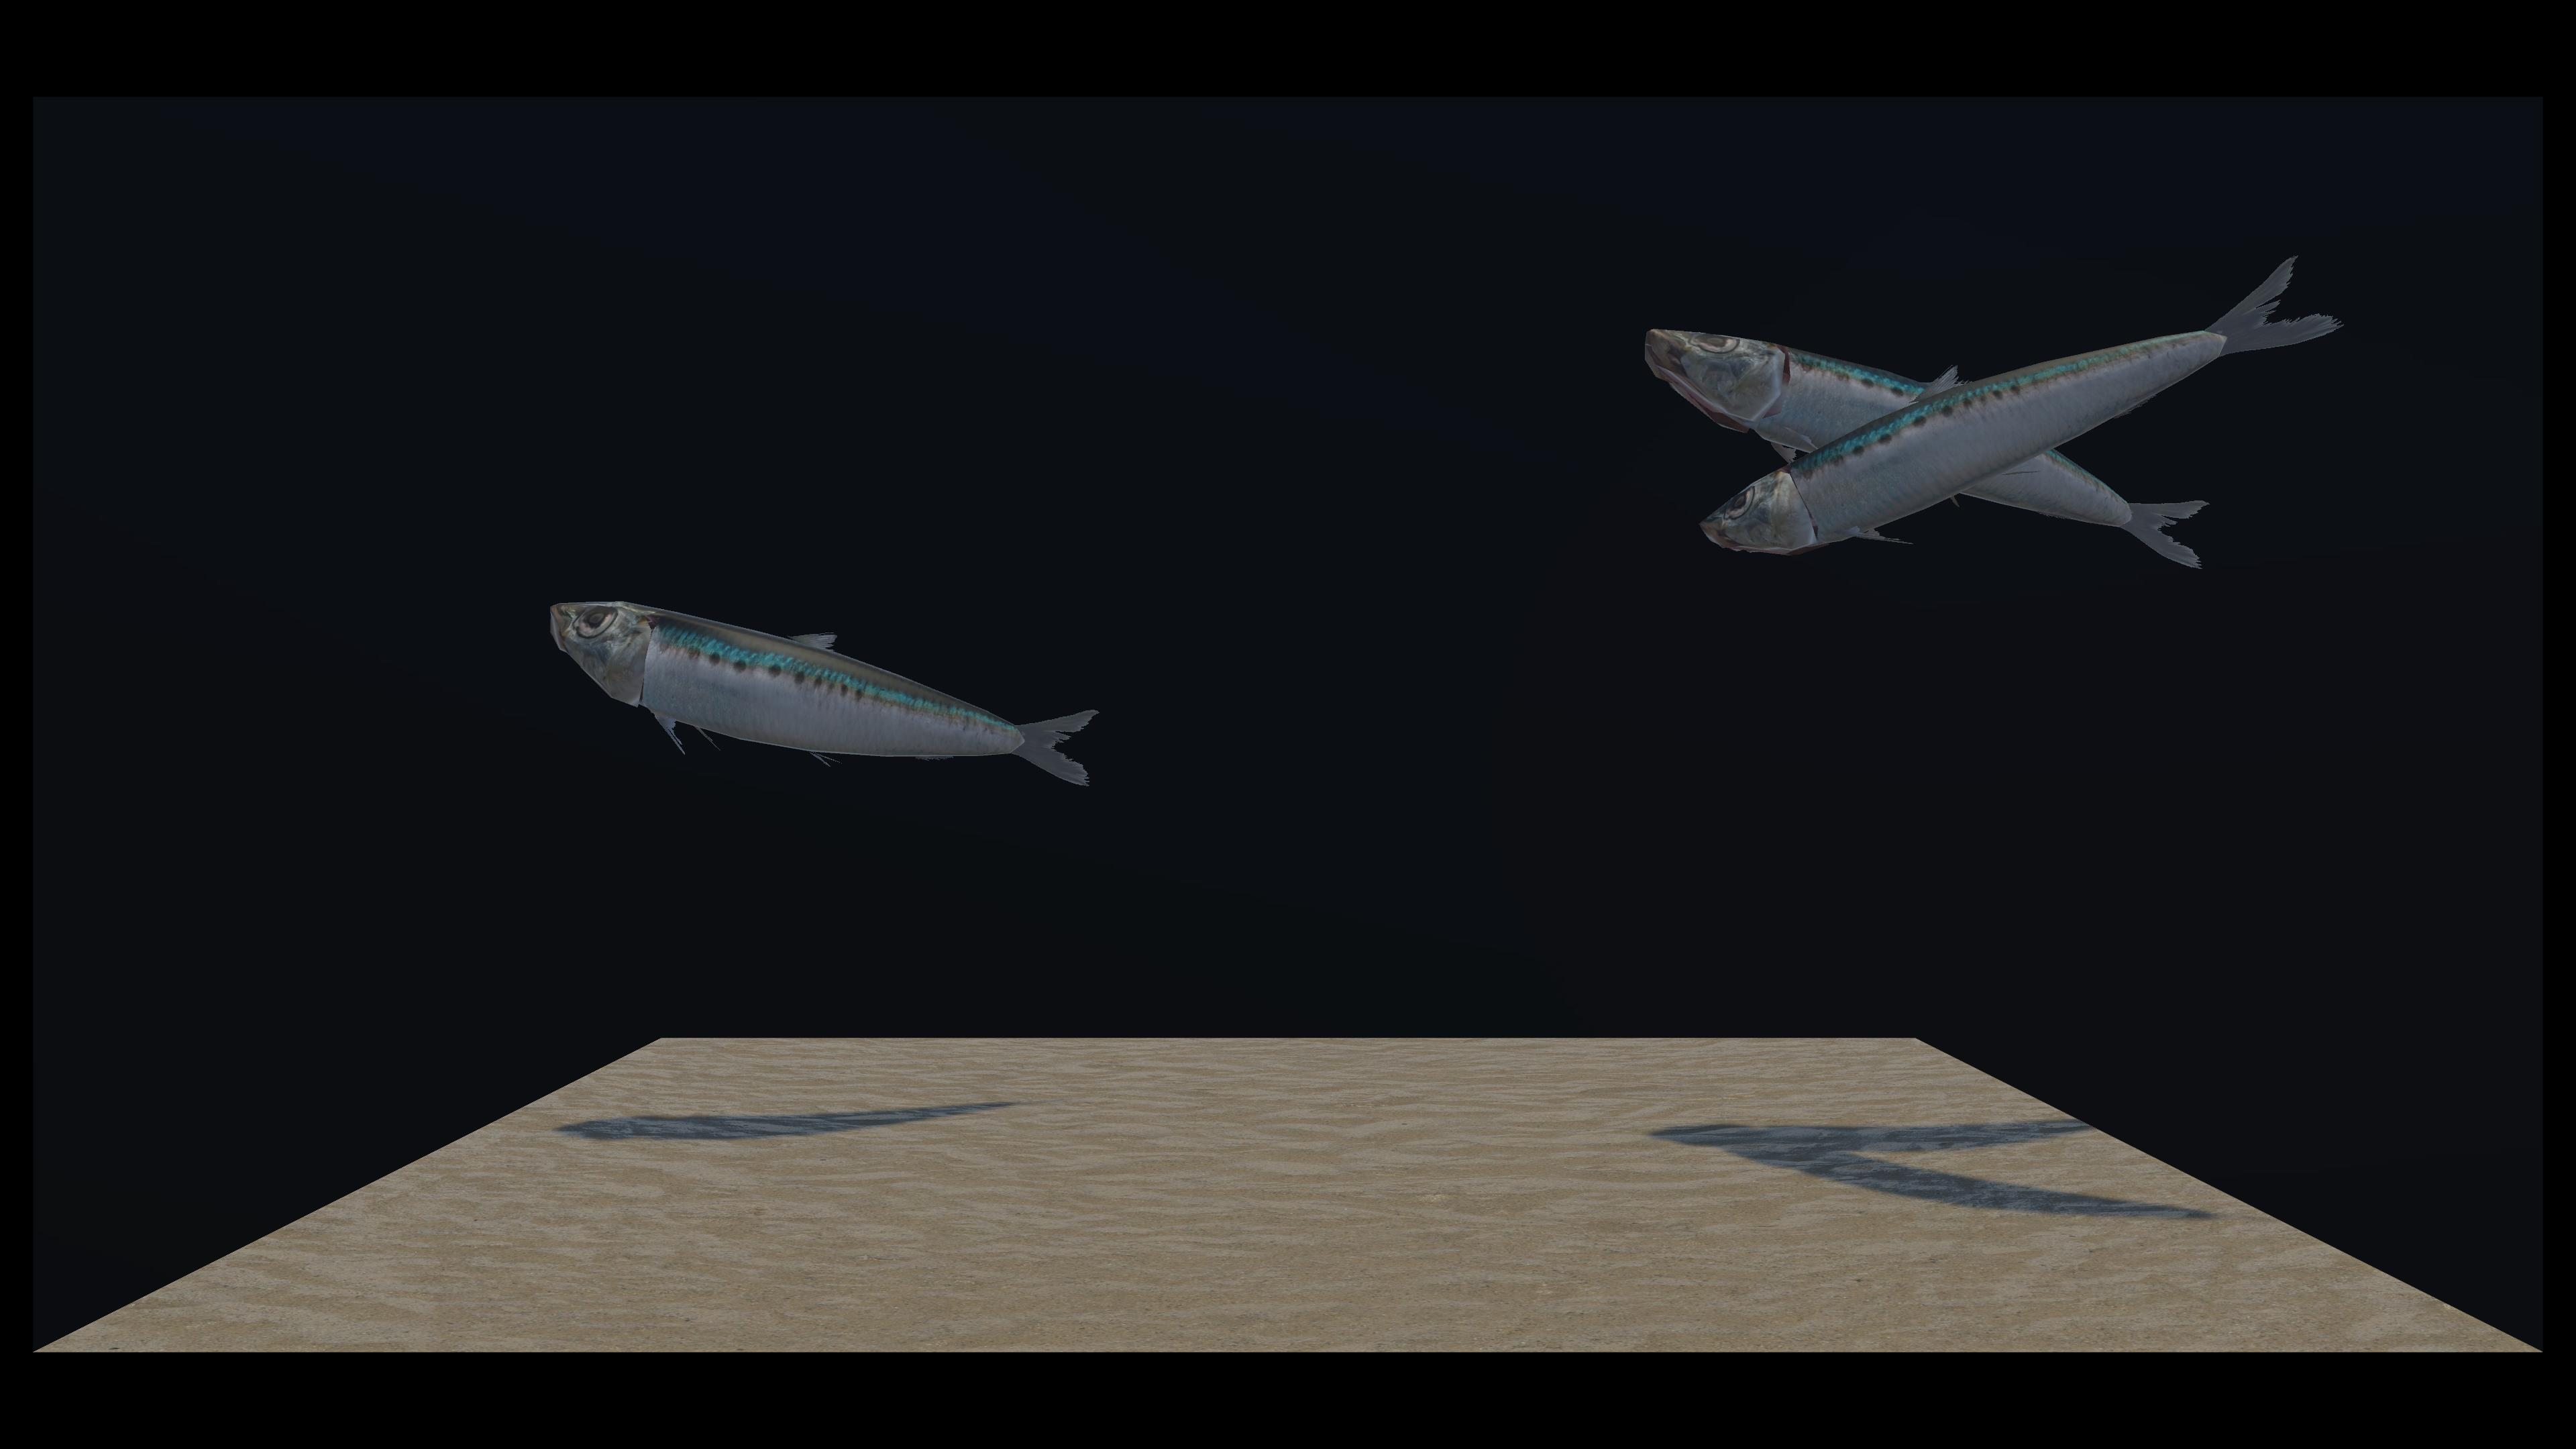Sardine_Front: (993, 251, 2342, 591), (886, 333, 2201, 566), (561, 409, 1093, 784)
